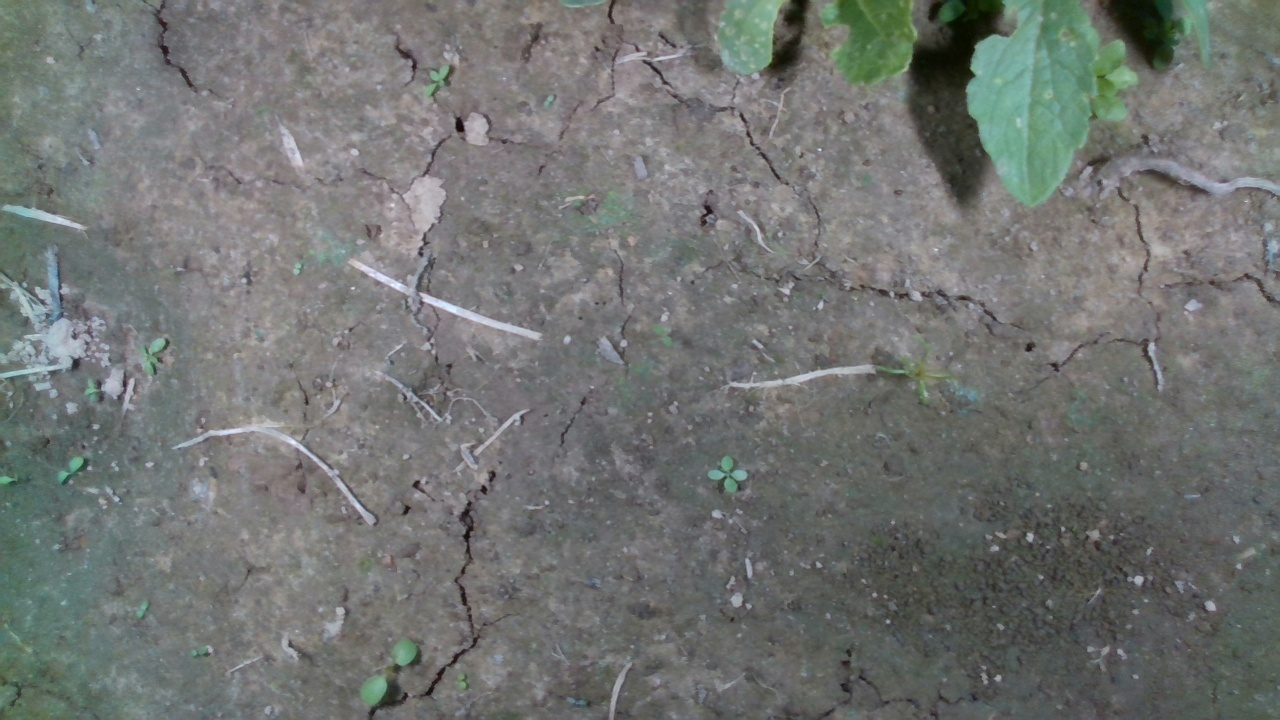weed: (357, 635, 418, 706), (706, 452, 749, 494), (136, 335, 168, 376), (55, 454, 86, 485), (422, 64, 450, 97), (84, 377, 102, 396), (455, 671, 468, 689)
